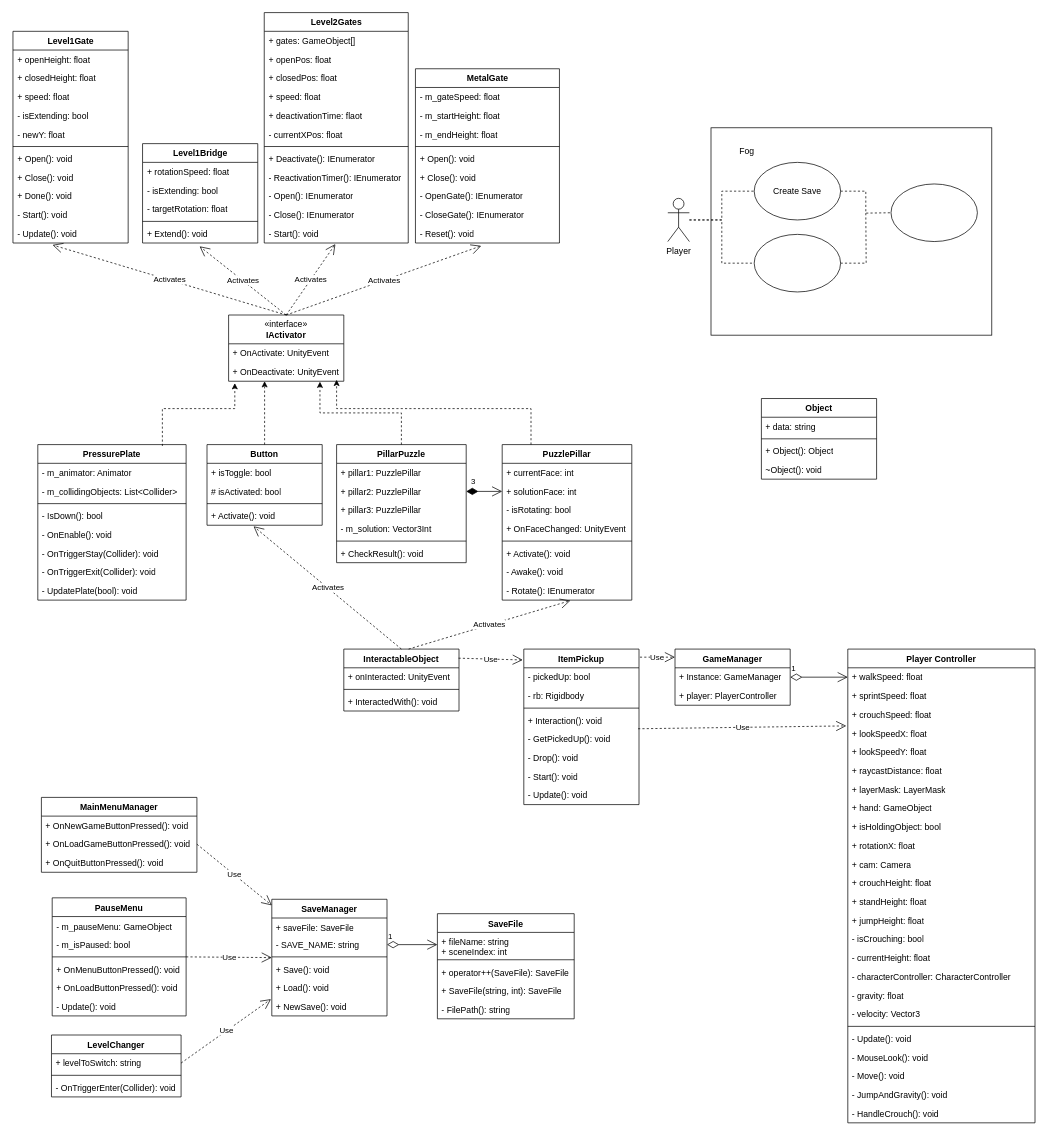
Some shapes in this 1048 by 1138 pixel diagram are drawn without their labels. The centre of each missing label's shape, as x and y in pixels:
"Load Save" goes at point 797,263.
"Play Game" goes at point 933,212.
